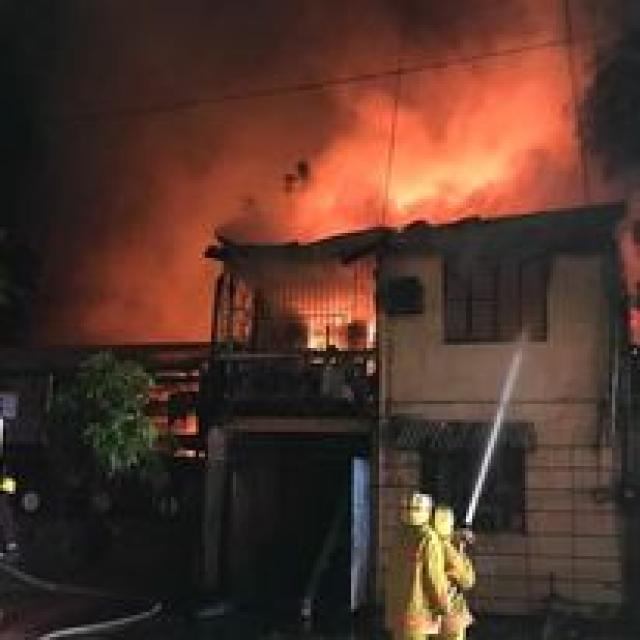Smoke: (281, 4, 635, 216)
